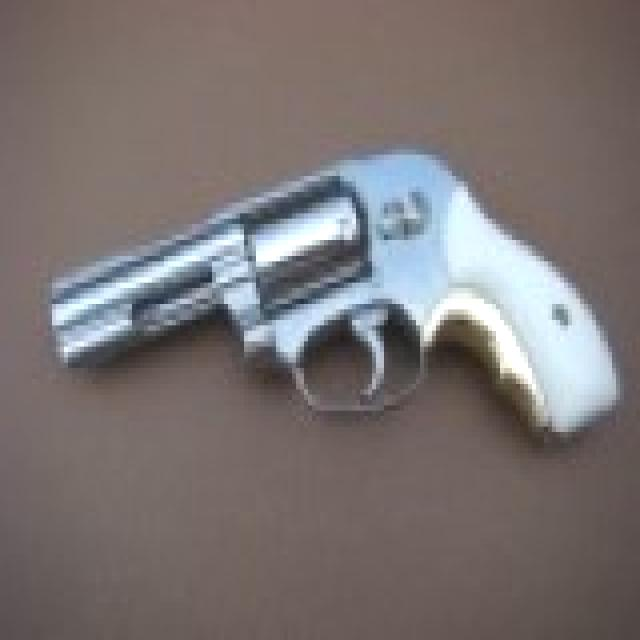pistol: (48, 144, 612, 475)
